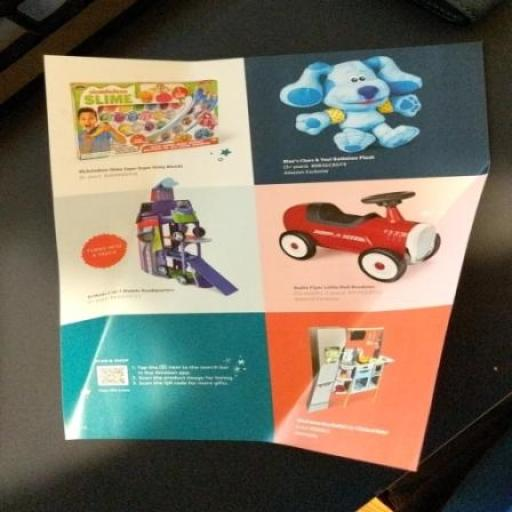paper: (26, 44, 512, 511)
